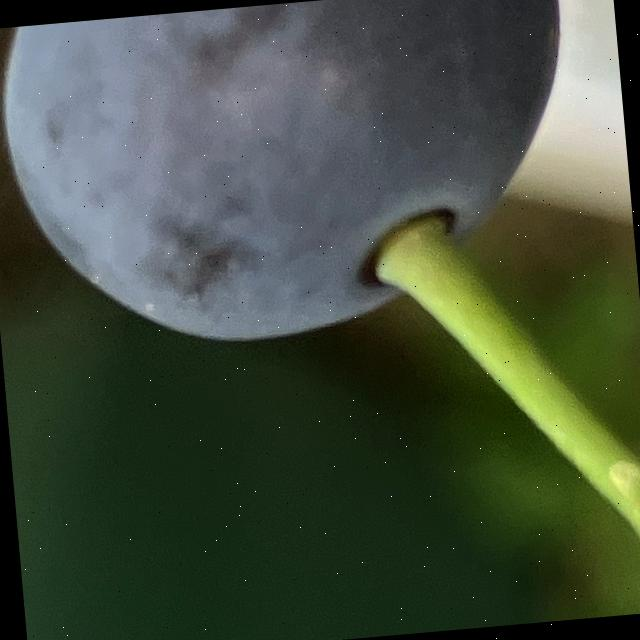Blueberries: (0, 0, 588, 364)
